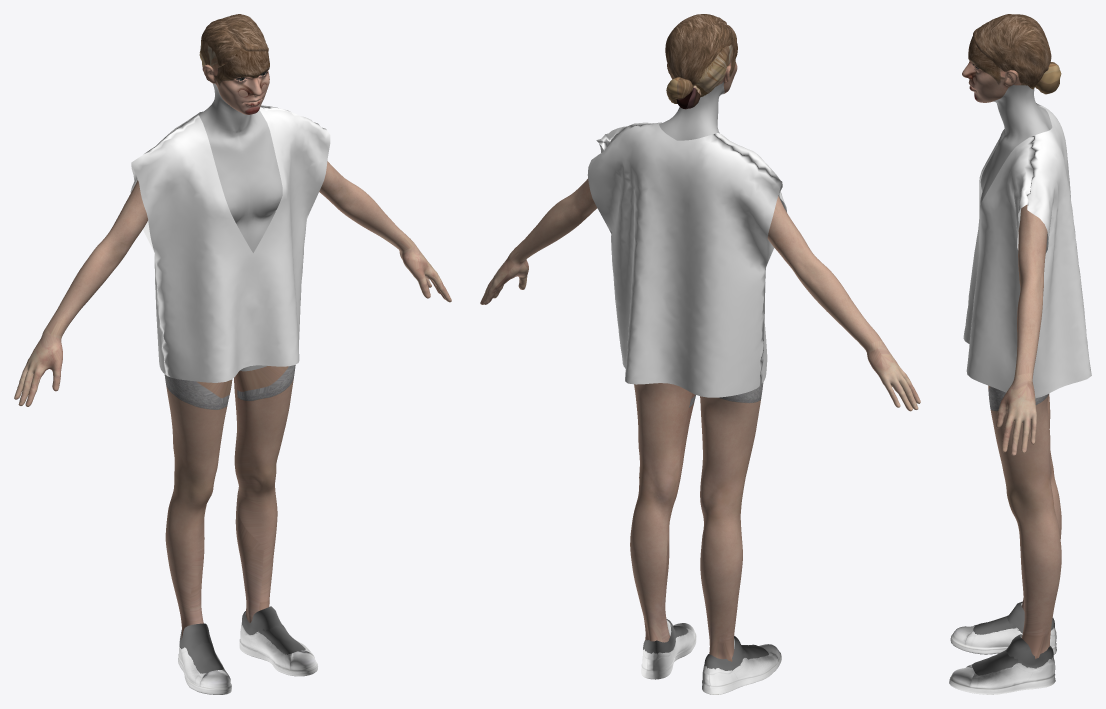
File: james.fbx
3 views of the same model, side by side, from view 1: azimuth 30°, elevation 25°; view 2: azimuth 150°, elevation 25°; view 3: azimuth 270°, elevation 25° (orthographic).
Parts seen in each view (by area): view 1: body, james, shoes_l_Shape, shoes_r_Shape, hair; view 2: james, body, hair, shoes_r_Shape, shoes_l_Shape; view 3: james, body, hair, shoes_l_Shape, shoes_r_Shape.
Boxes of the visible parts, x1,y1,x2,y2 form: body: (14, 48, 451, 639); james: (130, 105, 330, 382); shoes_l_Shape: (239, 606, 317, 676); shoes_r_Shape: (178, 623, 231, 694); hair: (199, 14, 268, 80); james: (587, 122, 786, 397); body: (480, 43, 920, 661); hair: (665, 14, 736, 109); shoes_r_Shape: (702, 636, 781, 694); shoes_l_Shape: (641, 619, 696, 679); james: (963, 103, 1091, 398); body: (962, 36, 1061, 658); hair: (973, 14, 1061, 94); shoes_l_Shape: (949, 634, 1055, 694); shoes_r_Shape: (950, 601, 1056, 654).
Bounding box in the file's own units: 1239 × 1789 × 356.
